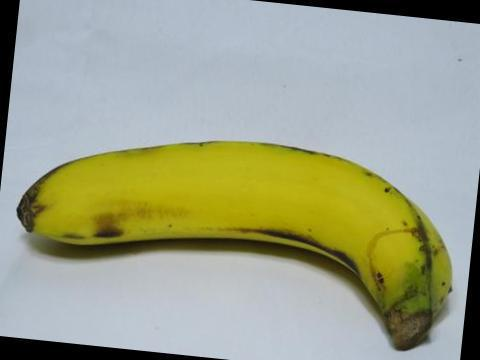freshripe: (8, 128, 454, 354)
